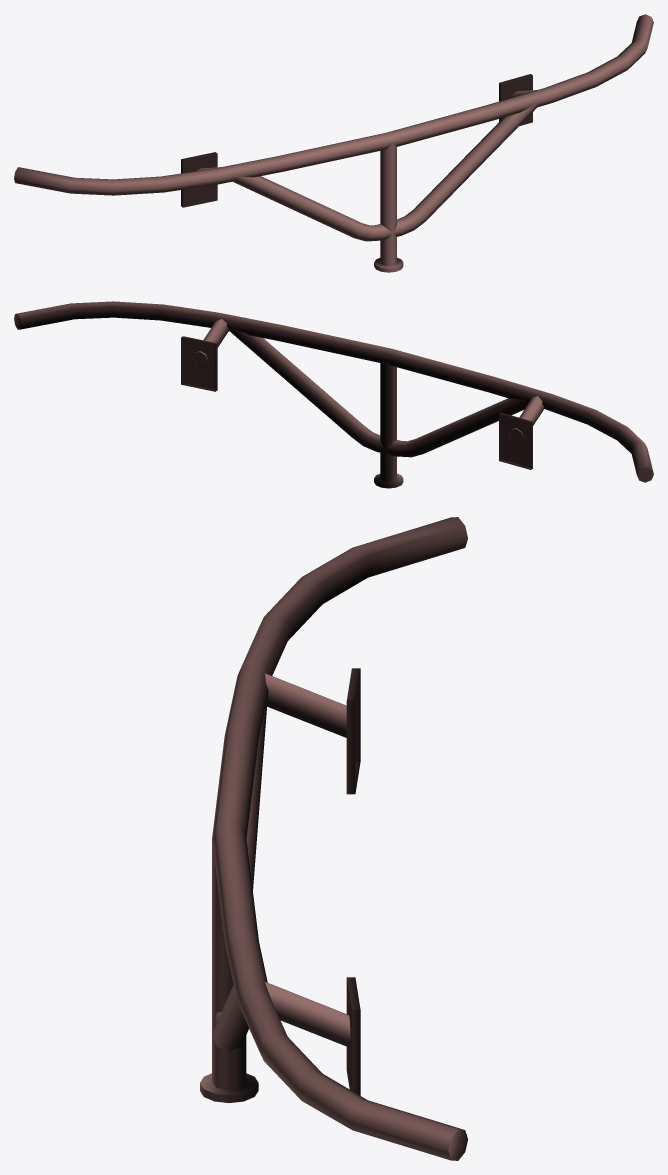
Rendered from Mustang16_FB_BB01_Trim.fbx.
The picture shows the model from 3 angles, top to bottom: view 1: azimuth 30°, elevation 25°; view 2: azimuth 150°, elevation 25°; view 3: azimuth 270°, elevation 25°; orthographic projection. The views are drawn at different scales.
Parts seen in each view (by area): view 1: Mustang16_FB_BB01_Trim; view 2: Mustang16_FB_BB01_Trim; view 3: Mustang16_FB_BB01_Trim.
Part boxes in pixels (left/top/right/bottom): Mustang16_FB_BB01_Trim: left=14, top=14, right=653, bottom=272; Mustang16_FB_BB01_Trim: left=14, top=301, right=653, bottom=488; Mustang16_FB_BB01_Trim: left=200, top=517, right=467, bottom=1160.
Bounding box in the file's own units: 172 × 34.24 × 31.14.
